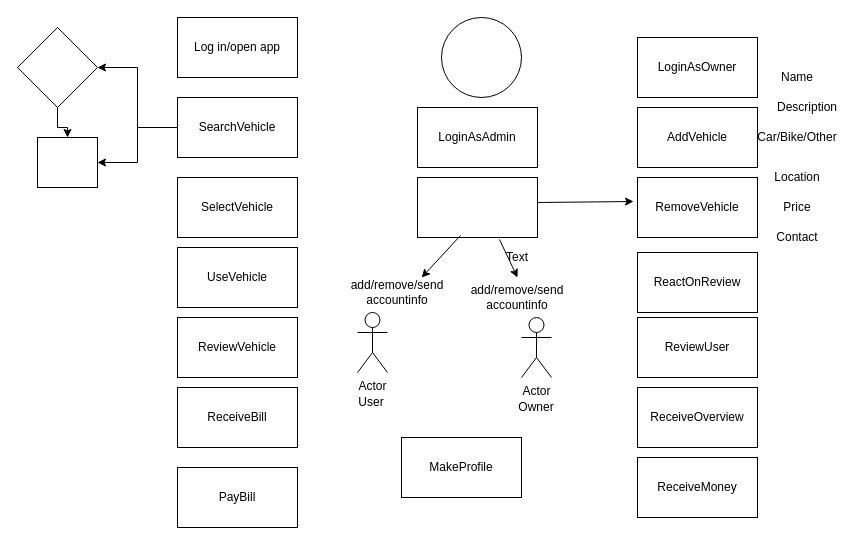
The diagram is 855 pixels wide and 545 high, and some of its shapes have lost their labels. Here are the shapes that lost their labels. From the top down, the box of each, then its label:
(16, 26, 98, 108): on map
(440, 16, 522, 98): Admin
(36, 136, 98, 188): inList
(416, 176, 538, 238): AdjustProfiles
